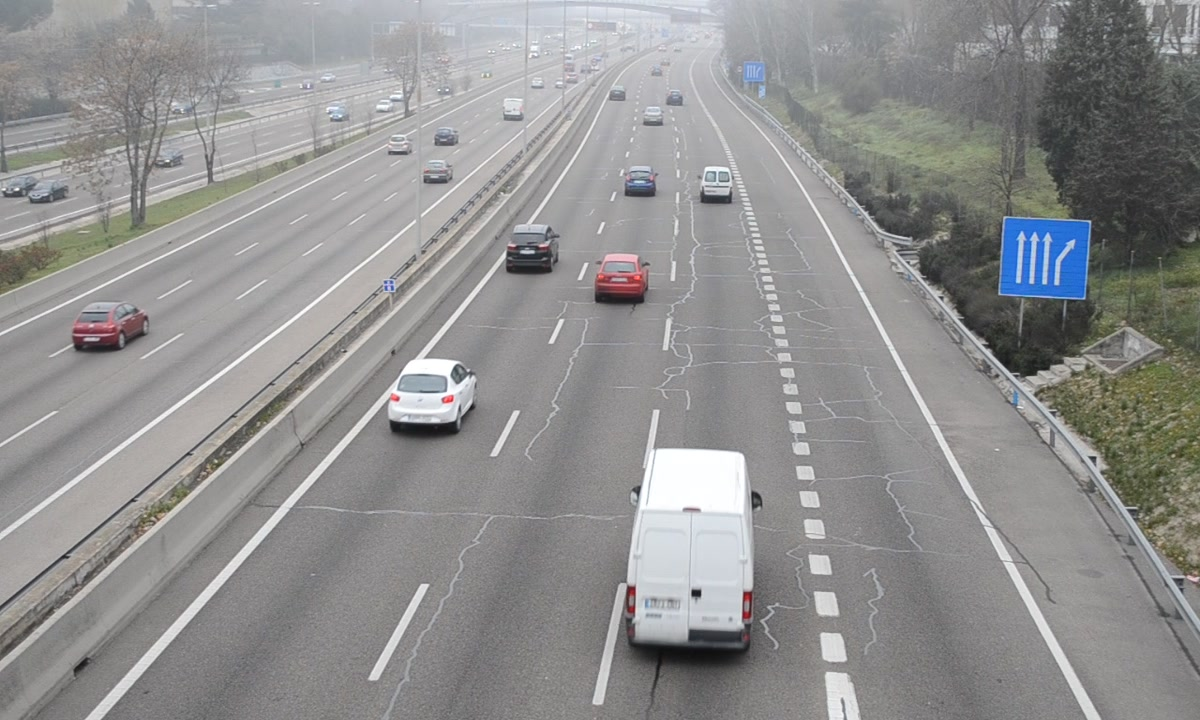car: (387, 359, 478, 424), (505, 224, 559, 274), (595, 253, 647, 301), (624, 166, 656, 196)
van: (626, 448, 756, 652), (700, 166, 735, 204)
